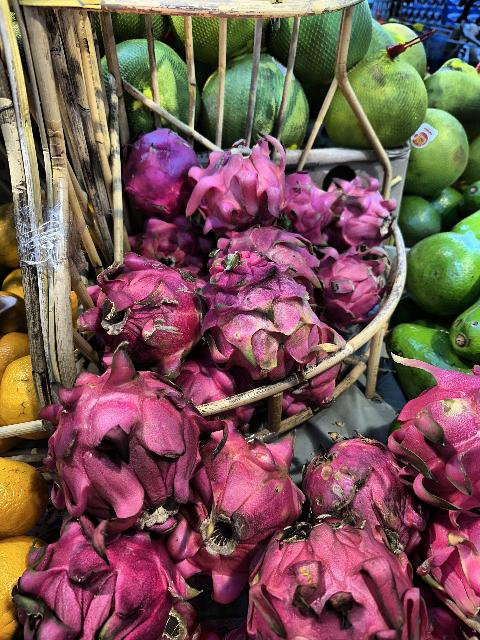buah-naga-belum-matang: (192, 256, 316, 378)
buah-naga-matang: (23, 364, 200, 510), (254, 514, 448, 640), (20, 522, 194, 640), (185, 434, 309, 570), (378, 344, 480, 504), (75, 250, 203, 368), (293, 442, 417, 554), (189, 142, 293, 225), (206, 224, 330, 288), (122, 122, 198, 206), (317, 246, 386, 318), (280, 170, 338, 240), (328, 183, 398, 241)
